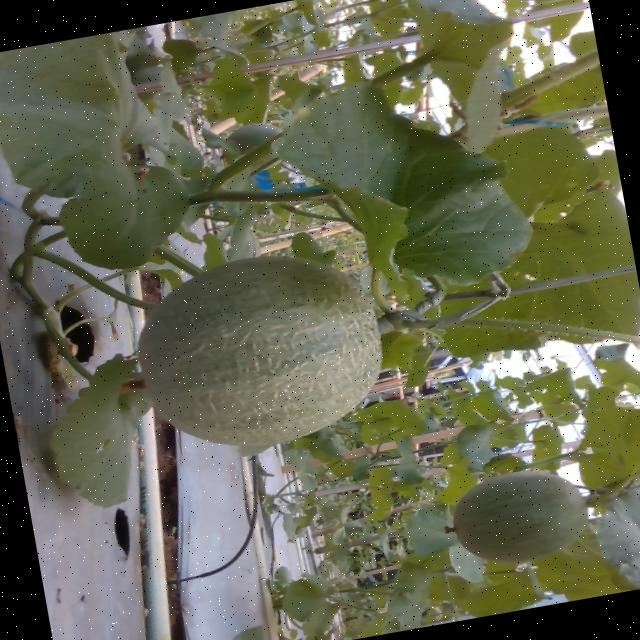melon: (138, 257, 380, 447)
